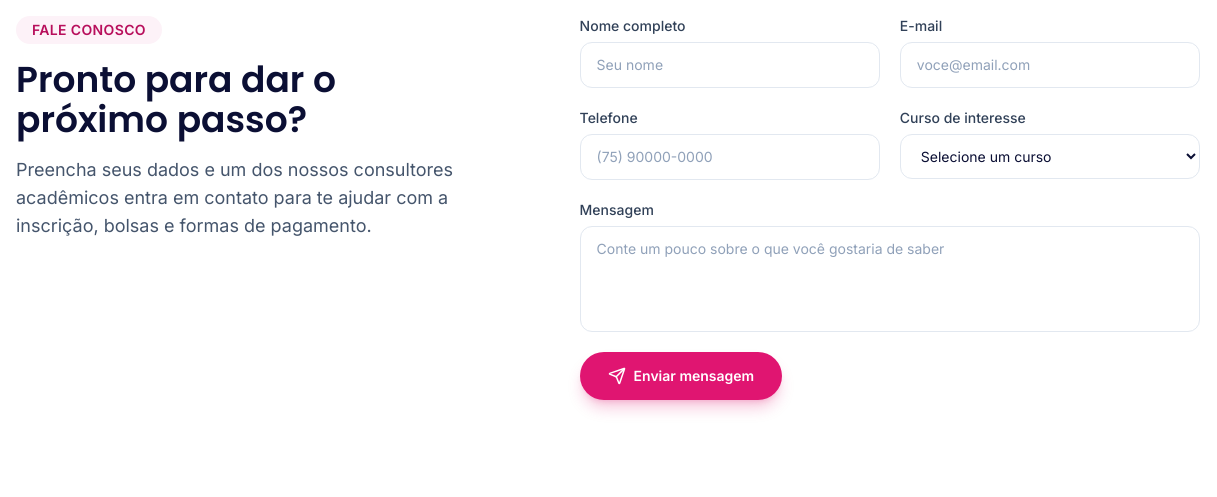
Test: ContactForm › exibe mensagens de erro ao tentar enviar o formulário vazio
The width and height of the screenshot is (1217, 497).
Click the button "Enviar mensagem": (681,376) [580, 352, 782, 400]
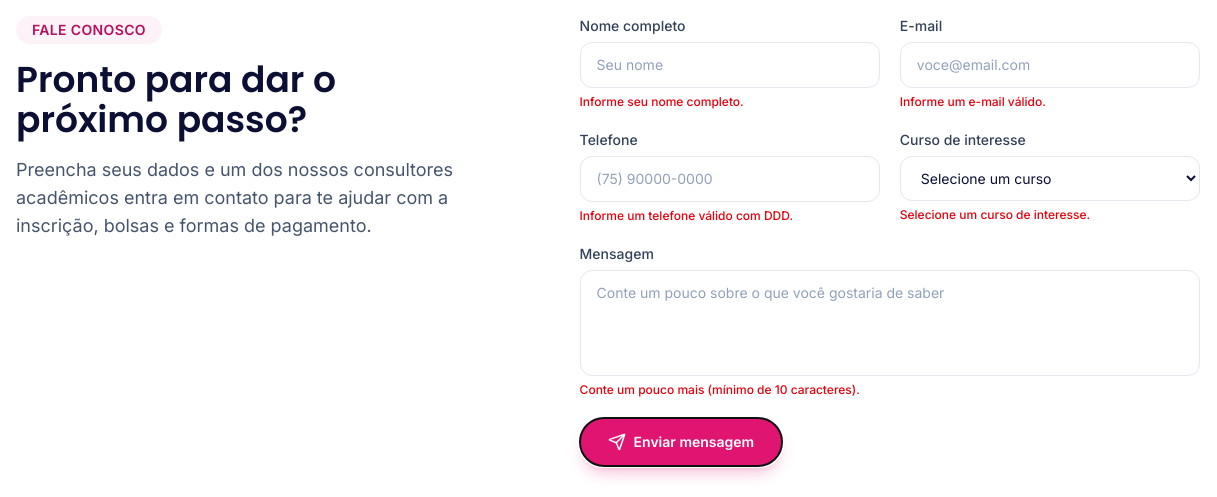
Result: the text "Informe seu nome completo." is shown at [580, 94, 744, 109]
Result: the text "Informe um e-mail válido." is shown at [900, 94, 1046, 109]
